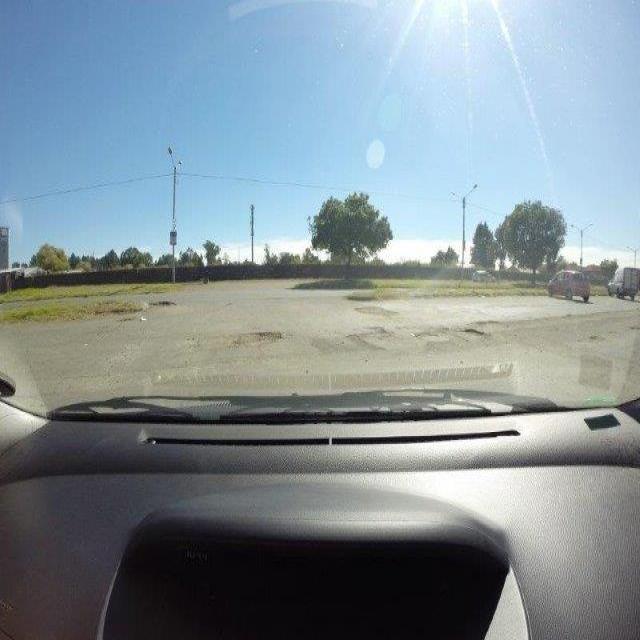jalan retak: (180, 322, 203, 358)
lubang: (306, 328, 386, 358), (350, 298, 407, 322), (225, 327, 283, 349), (359, 313, 398, 342), (408, 323, 454, 347), (581, 332, 613, 349), (464, 317, 503, 330), (149, 296, 180, 311), (458, 326, 485, 338), (623, 318, 640, 336)
